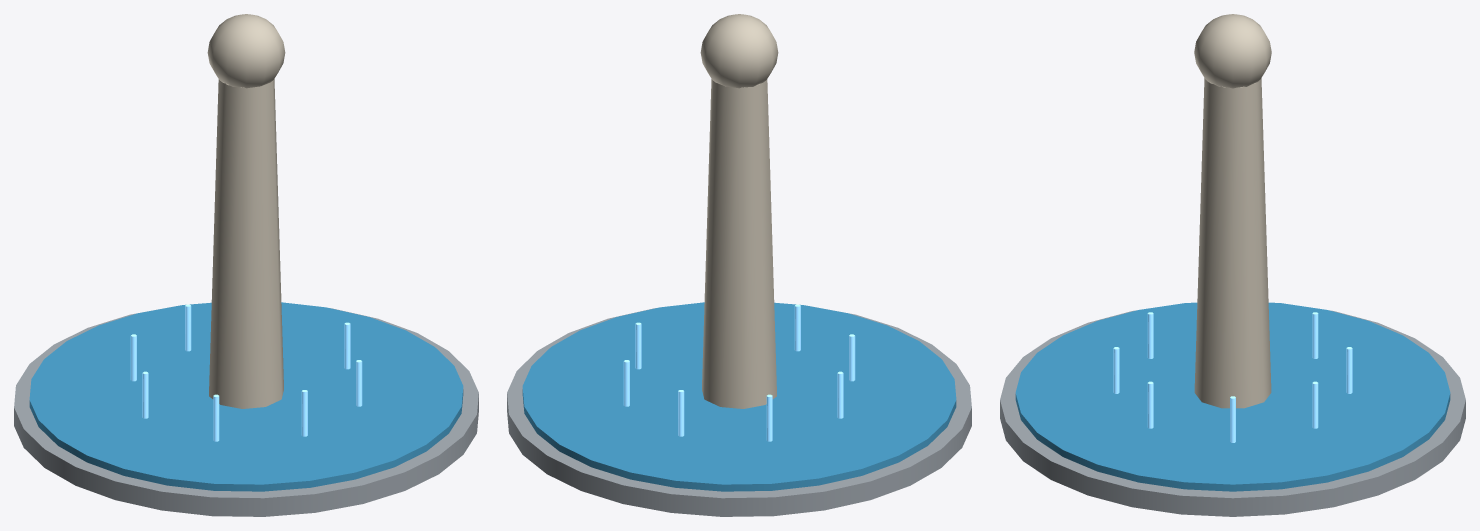
The model's file is bundaran_hi.glb.
3 renders of one model, left to right at view 1: azimuth 30°, elevation 25°; view 2: azimuth 150°, elevation 25°; view 3: azimuth 270°, elevation 25°, orthographic.
Size of the model in its own units: 18 by 17.1 by 18.
